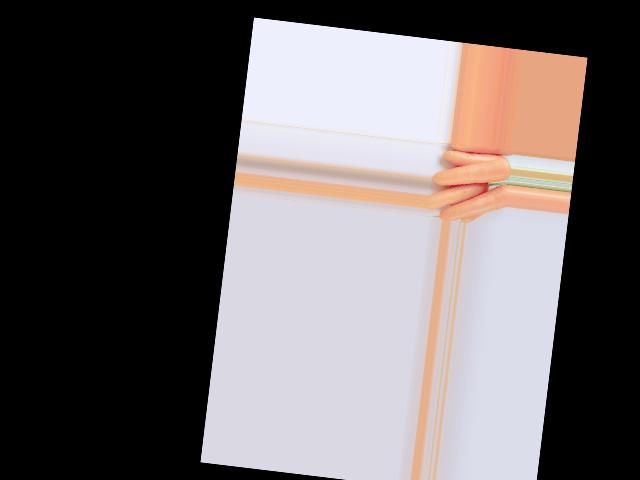carrot: (440, 143, 509, 171)
